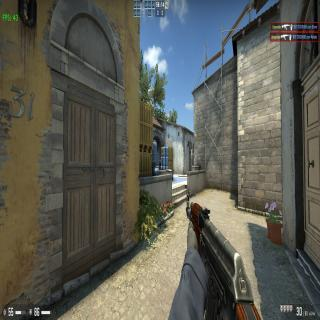CT-Body: (159, 160, 161, 170)
CT-Head: (160, 160, 160, 163)
